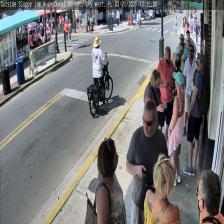person: (125, 100, 168, 224), (94, 136, 127, 224), (182, 52, 205, 175), (143, 154, 180, 224), (143, 69, 167, 171), (156, 46, 176, 146), (168, 71, 184, 186), (195, 169, 224, 223), (167, 53, 184, 141), (182, 46, 196, 136), (92, 36, 108, 112), (170, 44, 184, 110)
